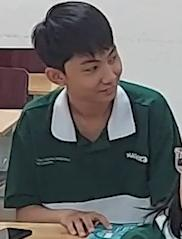Turning_Around: (12, 0, 167, 231)
